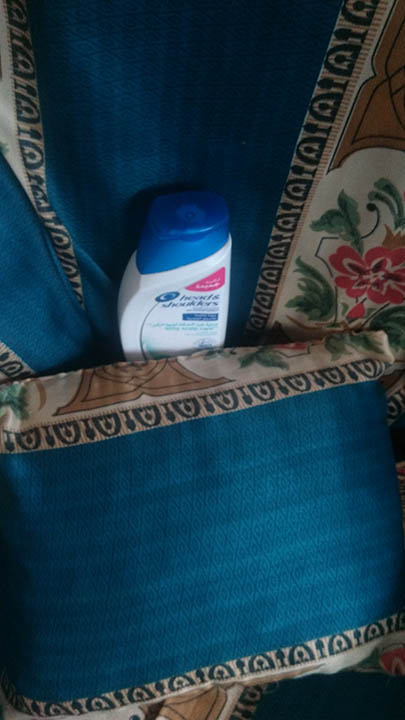shampoo-green 4.5$: (104, 181, 244, 371)
